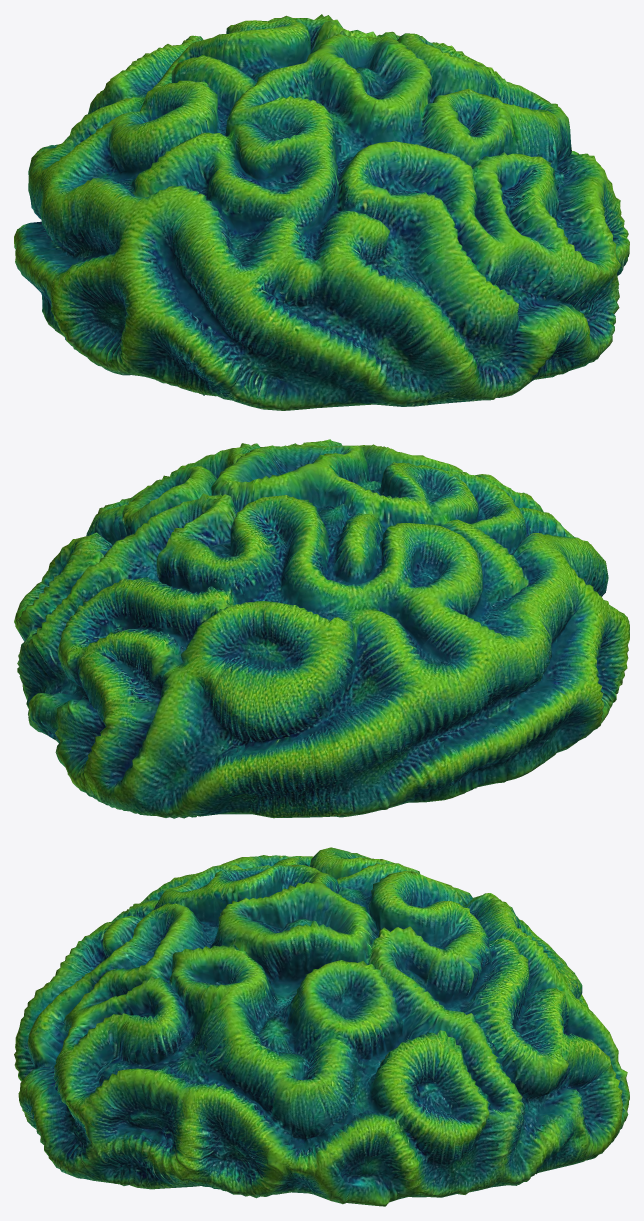
File: braincoral.glb
3 renders of one model, top to bottom at view 1: azimuth 30°, elevation 25°; view 2: azimuth 150°, elevation 25°; view 3: azimuth 270°, elevation 25°, orthographic. The views are drawn at different scales.
Visible parts, largest first — view 1: tripo_node_25a98d09-8bcc-4a96-9e0d-8ade5fc88bf6; view 2: tripo_node_25a98d09-8bcc-4a96-9e0d-8ade5fc88bf6; view 3: tripo_node_25a98d09-8bcc-4a96-9e0d-8ade5fc88bf6.
Part boxes in pixels (x1=…): tripo_node_25a98d09-8bcc-4a96-9e0d-8ade5fc88bf6: x1=14, y1=14, x2=629, y2=410; tripo_node_25a98d09-8bcc-4a96-9e0d-8ade5fc88bf6: x1=14, y1=439, x2=629, y2=818; tripo_node_25a98d09-8bcc-4a96-9e0d-8ade5fc88bf6: x1=14, y1=847, x2=629, y2=1206.
Bounding box in the file's own units: 0.9567 × 0.4317 × 1.01.
1 material, 1 textured.
